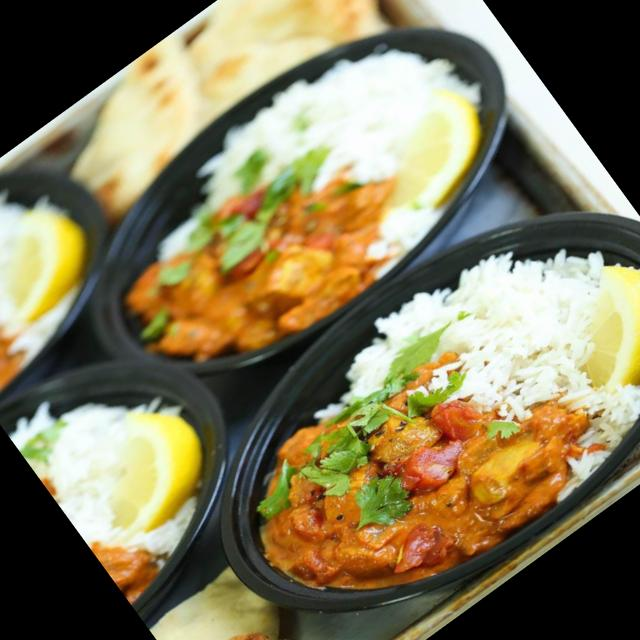chicken: (224, 331, 570, 640), (121, 145, 389, 396)
rice: (433, 192, 640, 479), (283, 13, 500, 238)
roti: (58, 0, 392, 198)
